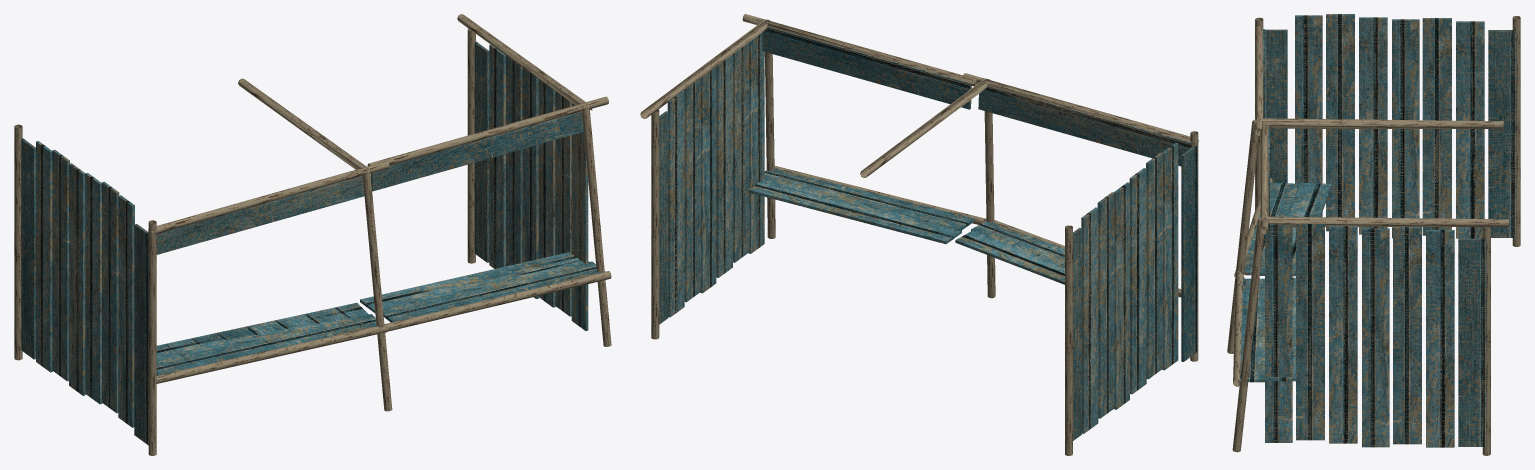
File: shop2.fbx
3 renders of one model, left to right at view 1: azimuth 30°, elevation 25°; view 2: azimuth 150°, elevation 25°; view 3: azimuth 270°, elevation 25°, orthographic. The views are drawn at different scales.
Visible parts, largest first — view 1: Group1; view 2: Group1; view 3: Group1.
Part boxes in pixels (box(x1,y1,x2,y2)): Group1: box(14, 14, 611, 455); Group1: box(640, 14, 1198, 455); Group1: box(1227, 14, 1520, 455).
Bounding box in the file's own units: 340 × 171 × 190.
